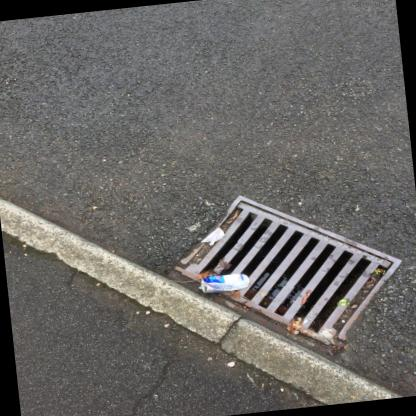Metal: (198, 273, 249, 293), (198, 284, 205, 288)
Waste: (200, 227, 225, 245)
